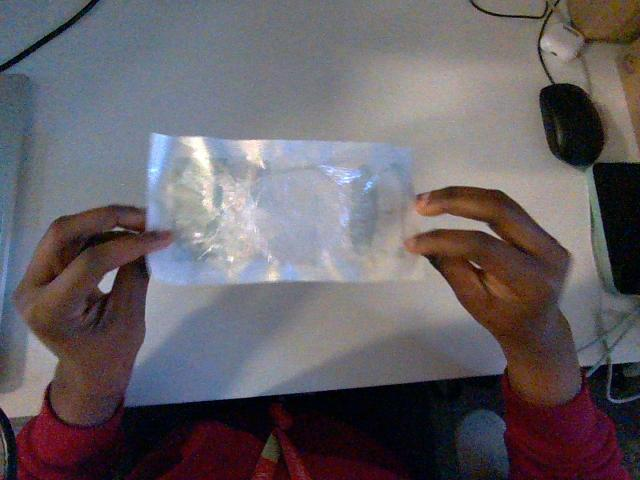gallipot: (147, 134, 415, 283)
